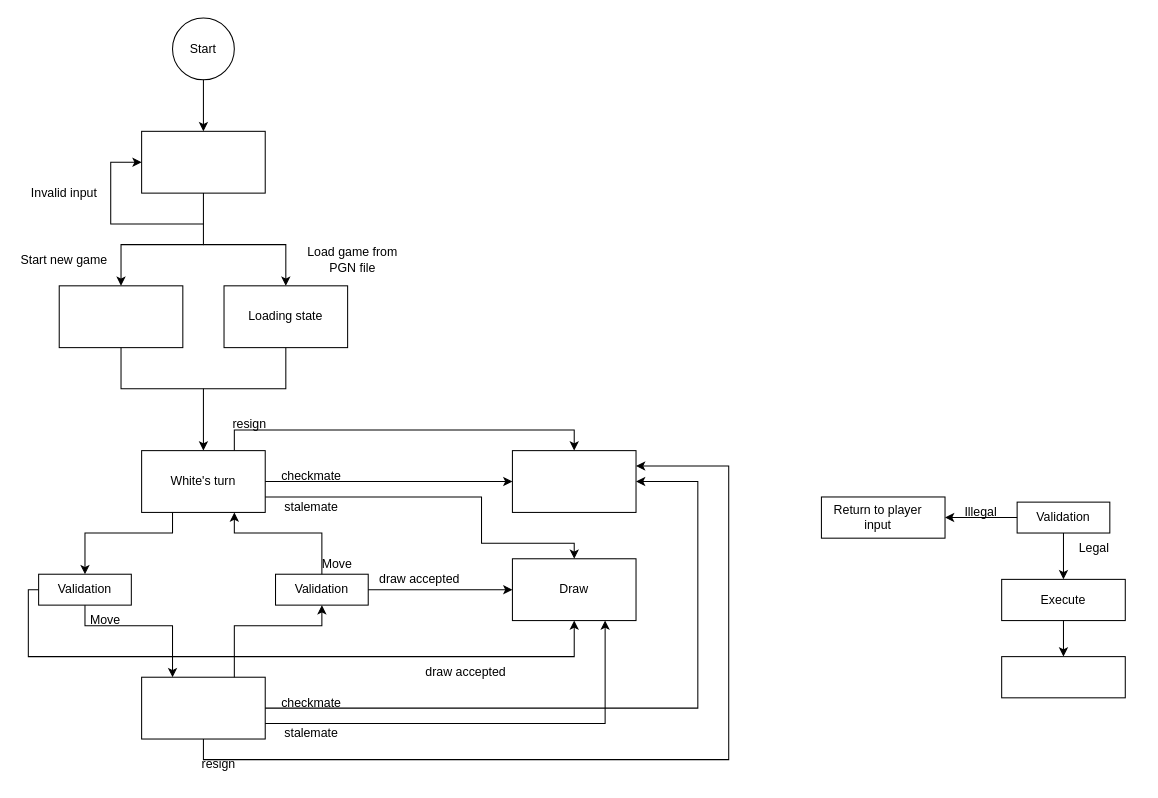
This 1158x798 diagram has some shape labels left out. The box of each missing label's shape, as (x1, y1, x2, y2) in pixels:
Black / White wins: (511, 450, 636, 512)
Black's turn: (141, 676, 265, 739)
Console UI: (141, 130, 265, 193)
Initialization state: (58, 285, 183, 348)
Promotion: (1001, 656, 1125, 698)
